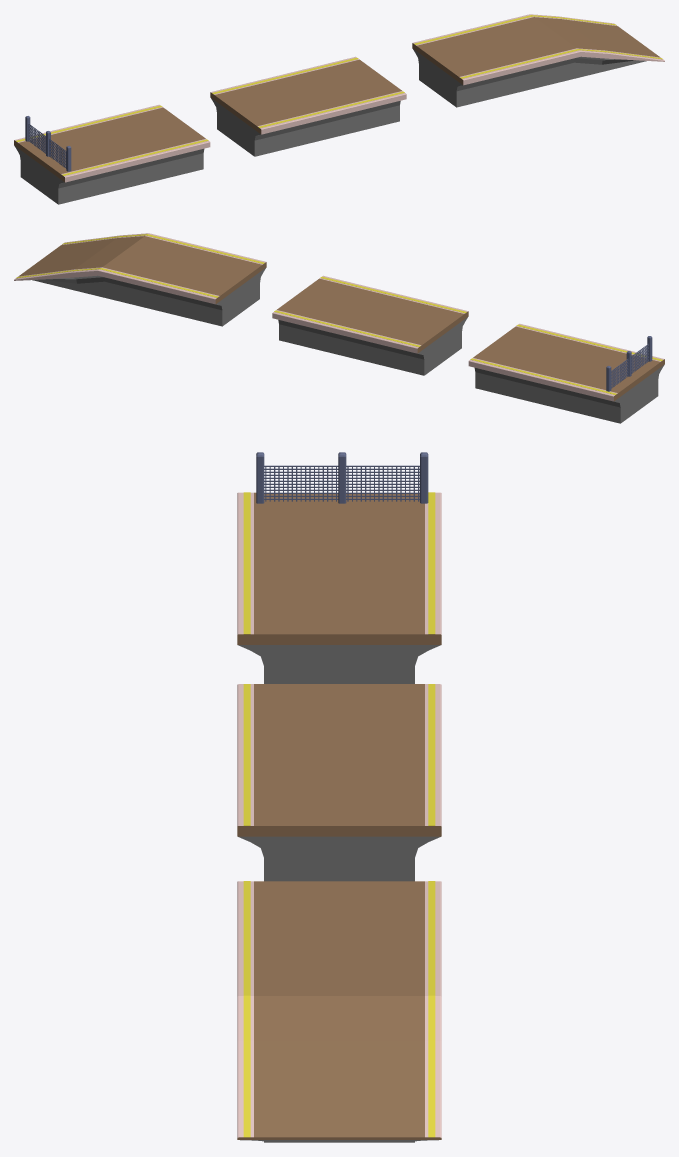
File: Seperated Platforms.fbx
3 views of the same model, one above another, from view 1: azimuth 30°, elevation 25°; view 2: azimuth 150°, elevation 25°; view 3: azimuth 270°, elevation 25° (orthographic). The views are drawn at different scales.
Visible parts, largest first — view 1: Platform_EndA, Platform_Center, Platform_EndB, Platform_EndB_FenceGrateA, Platform_EndB_Fence; view 2: Platform_EndA, Platform_Center, Platform_EndB, Platform_EndB_FenceGrateA, Platform_EndB_Fence; view 3: Platform_EndA, Platform_Center, Platform_EndB, Platform_EndB_FenceGrateA, Platform_EndB_Fence.
Part boxes in pixels (x1,y1,x2,y2): Platform_EndA: (412, 14, 664, 107); Platform_Center: (210, 56, 406, 156); Platform_EndB: (14, 104, 210, 204); Platform_EndB_FenceGrateA: (28, 124, 66, 167); Platform_EndB_Fence: (25, 116, 71, 171); Platform_EndA: (14, 233, 266, 326); Platform_Center: (272, 275, 468, 375); Platform_EndB: (468, 323, 664, 423); Platform_EndB_FenceGrateA: (611, 343, 648, 387); Platform_EndB_Fence: (606, 336, 652, 391); Platform_EndA: (237, 881, 441, 1142); Platform_Center: (237, 684, 441, 881); Platform_EndB: (237, 492, 441, 683); Platform_EndB_FenceGrateA: (264, 465, 419, 499); Platform_EndB_Fence: (256, 452, 428, 503).
Bounding box in the file's own units: 2139 × 194 × 315.
